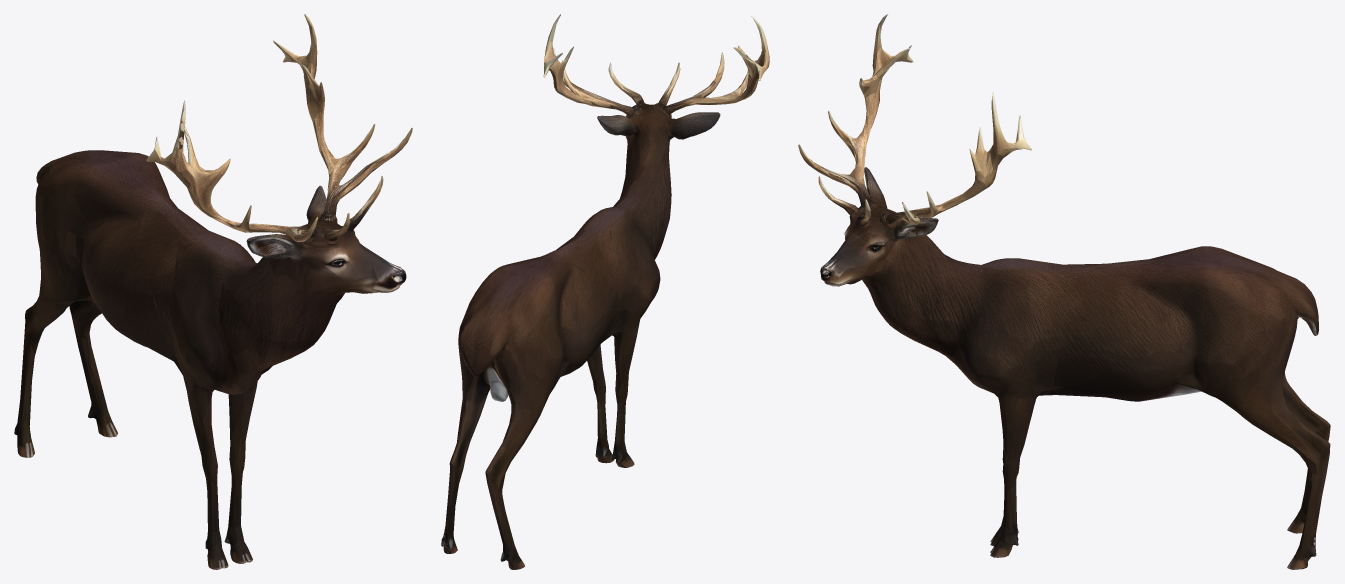
File: stag.glb
3 renders of one model, left to right at view 1: azimuth 30°, elevation 25°; view 2: azimuth 150°, elevation 25°; view 3: azimuth 270°, elevation 25°, orthographic. The views are drawn at different scales.
Size of the model in its own units: 0.9719 by 1.9 by 1.88.
1 material, 1 textured.
